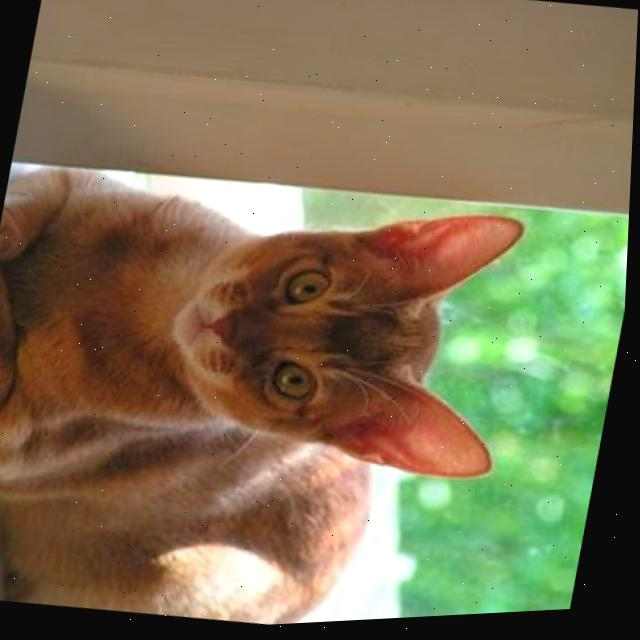Abyssinian: (0, 134, 554, 640)
